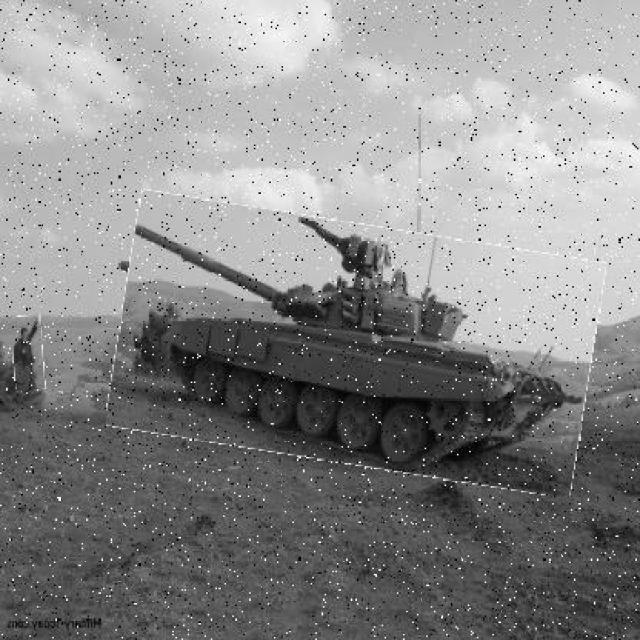Person: (13, 318, 46, 392)
Tank: (114, 209, 600, 481)
